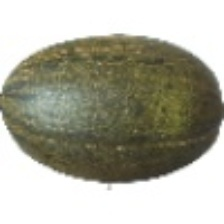honeydew: (17, 0, 211, 198)
